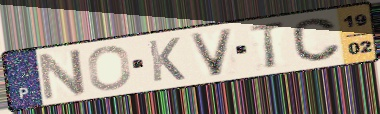C: (290, 16, 344, 64)
K: (146, 36, 188, 84)
N: (37, 47, 89, 103)
O: (86, 44, 134, 92)
T: (246, 19, 288, 71)
V: (186, 27, 237, 78)
